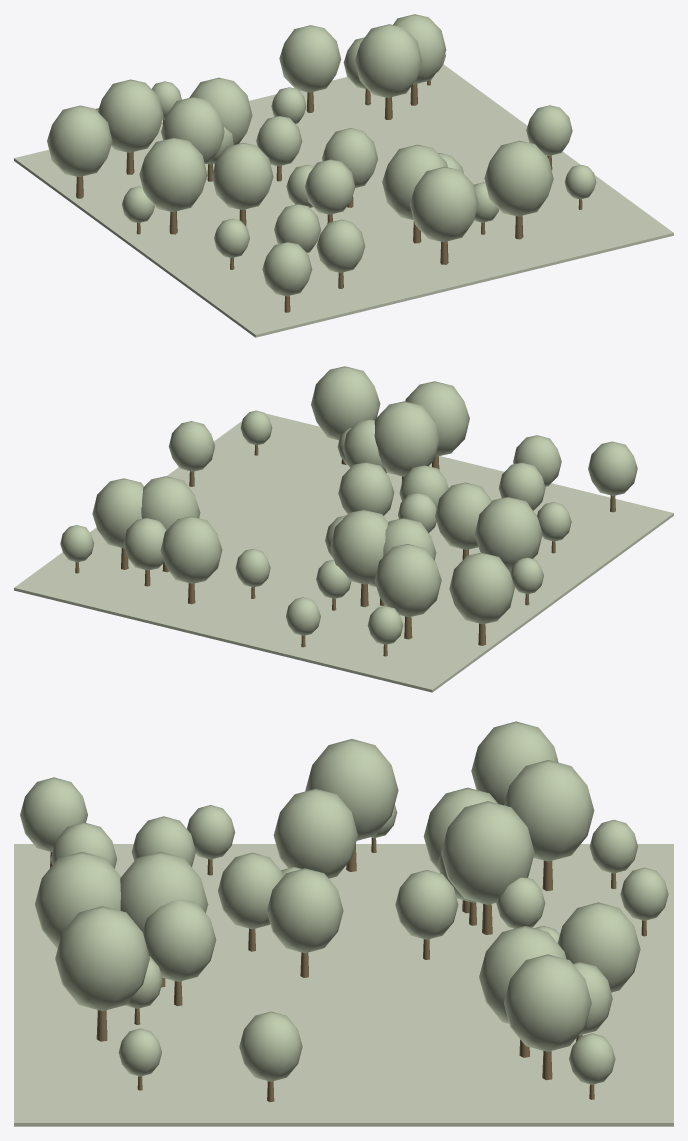
3 views of the same model, one above another, from view 1: azimuth 30°, elevation 25°; view 2: azimuth 150°, elevation 25°; view 3: azimuth 270°, elevation 25° (orthographic). The views are drawn at different scales.
Parts seen in each view (by area): view 1: terrain, lod-near-23, lod-near-30, lod-near-7, lod-near-24, lod-near-27, lod-near-26, lod-near-21, lod-near-19, lod-near-3, lod-near-15, lod-near-8 (+16 smaller); view 2: terrain, lod-near-15, lod-near-26, lod-near-27, lod-near-23, lod-near-7, lod-near-31, lod-near-21, lod-near-19, lod-near-30, lod-near-11, lod-near-0 (+18 smaller); view 3: terrain, lod-near-23, lod-near-31, lod-near-11, lod-near-26, lod-near-19, lod-near-7, lod-near-30, lod-near-0, lod-near-21, lod-near-13, lod-near-15 (+17 smaller).
Boxes of the visible parts, box(x1,y1,x2,y2) form: terrain: box(14, 64, 673, 337); lod-near-23: box(484, 140, 553, 216); lod-near-30: box(409, 167, 478, 242); lod-near-7: box(139, 137, 207, 211); lod-near-24: box(355, 24, 422, 97); lod-near-27: box(47, 105, 112, 176); lod-near-26: box(98, 79, 163, 152); lod-near-21: box(279, 25, 341, 92); lod-near-19: box(212, 142, 273, 209); lod-near-3: box(161, 97, 224, 163); lod-near-15: box(382, 144, 447, 219); lod-near-8: box(305, 159, 355, 214); terrain: box(14, 413, 673, 692); lod-near-15: box(374, 401, 439, 476); lod-near-26: box(374, 544, 441, 617); lod-near-27: box(449, 552, 514, 624); lod-near-23: box(311, 366, 380, 440); lod-near-7: box(474, 497, 542, 571); lod-near-31: box(330, 509, 387, 584); lod-near-21: box(160, 516, 222, 583); lod-near-19: box(435, 482, 491, 549); lod-near-30: box(405, 381, 469, 456); lod-near-11: box(92, 478, 143, 548); lod-near-0: box(338, 462, 394, 515); terrain: box(14, 844, 673, 1126); lod-near-23: box(55, 906, 149, 1011); lod-near-31: box(441, 801, 534, 904); lod-near-11: box(504, 954, 591, 1051); lod-near-26: box(504, 760, 594, 861); lod-near-19: box(273, 788, 357, 878); lod-near-7: box(305, 739, 398, 840); lod-near-30: box(35, 852, 120, 948); lod-near-0: box(267, 868, 343, 953); lod-near-21: box(557, 902, 640, 992); lod-near-13: box(143, 899, 216, 981); lod-near-15: box(120, 851, 208, 931).
Size of the model in its own units: 33.56 by 7.28 by 32.
